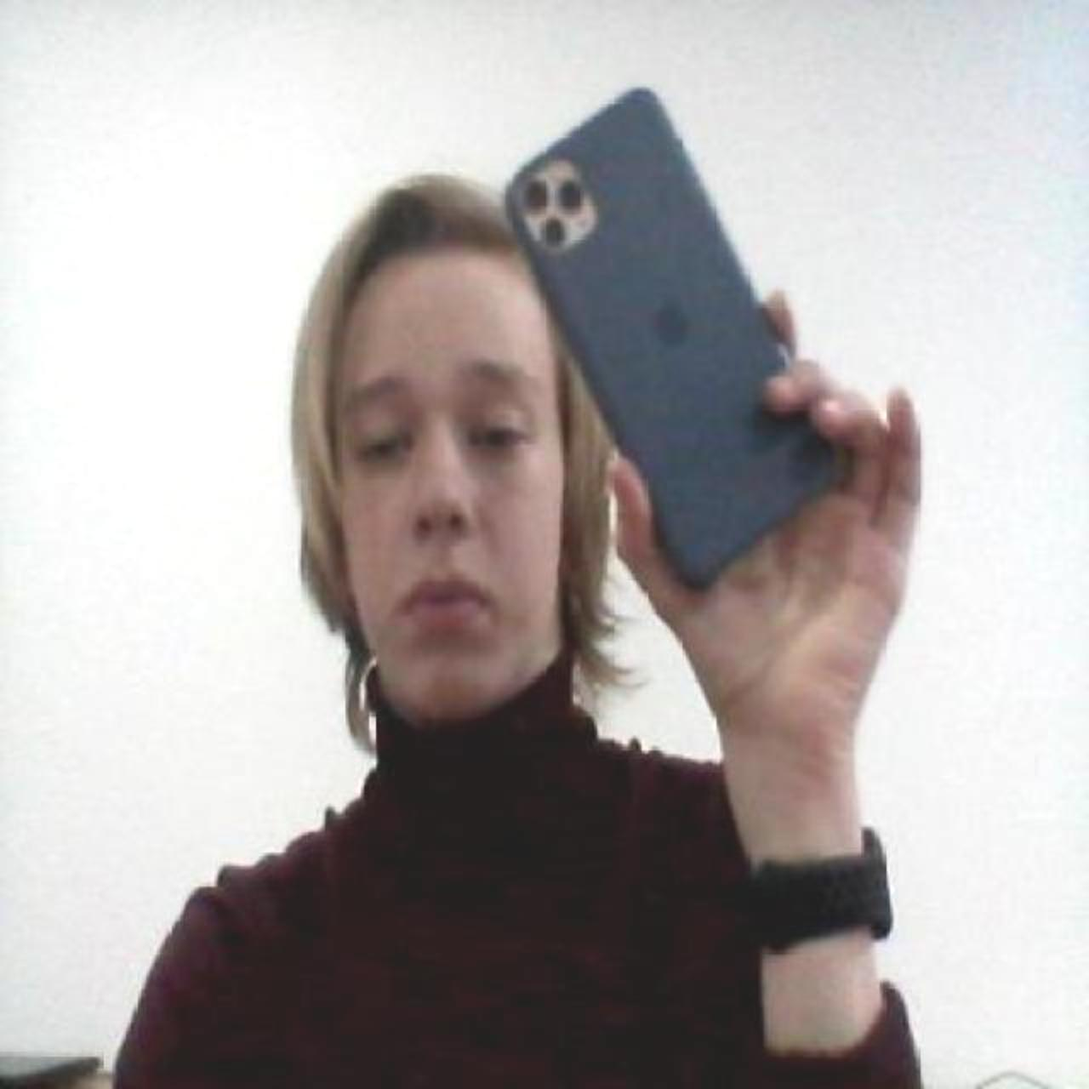phone: (506, 86, 848, 584)
